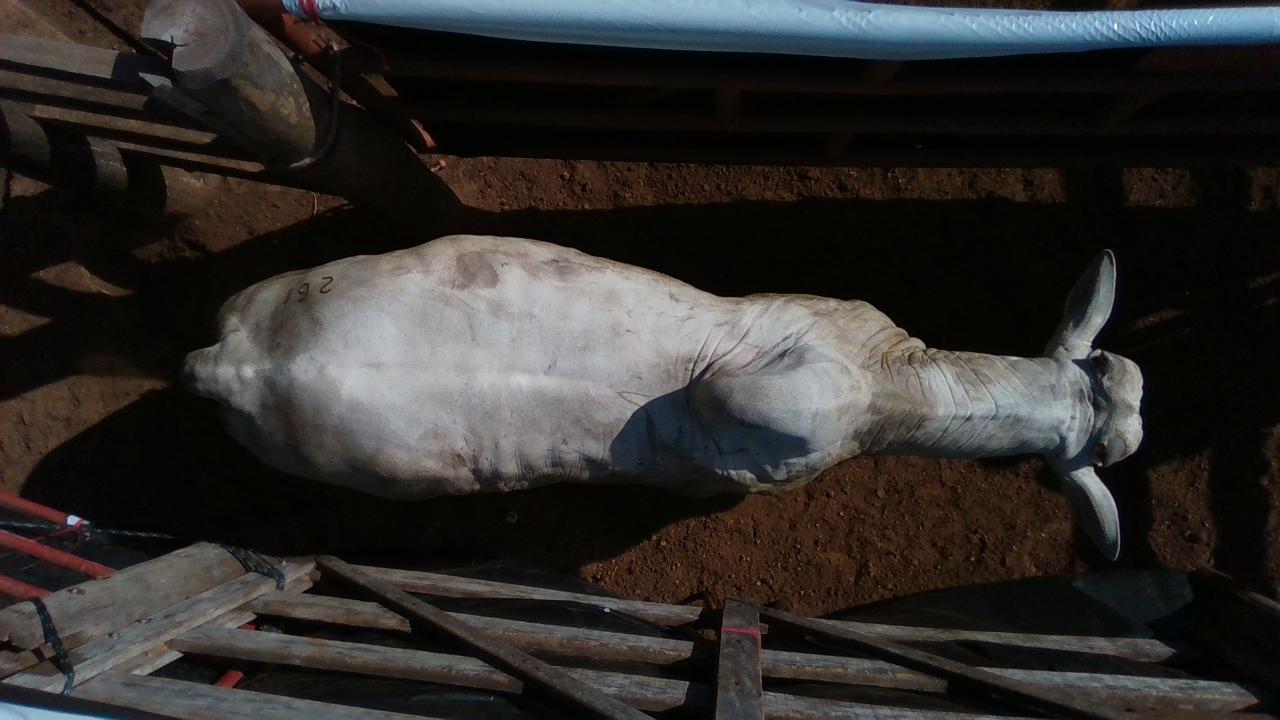cattle: (179, 231, 1146, 562)
